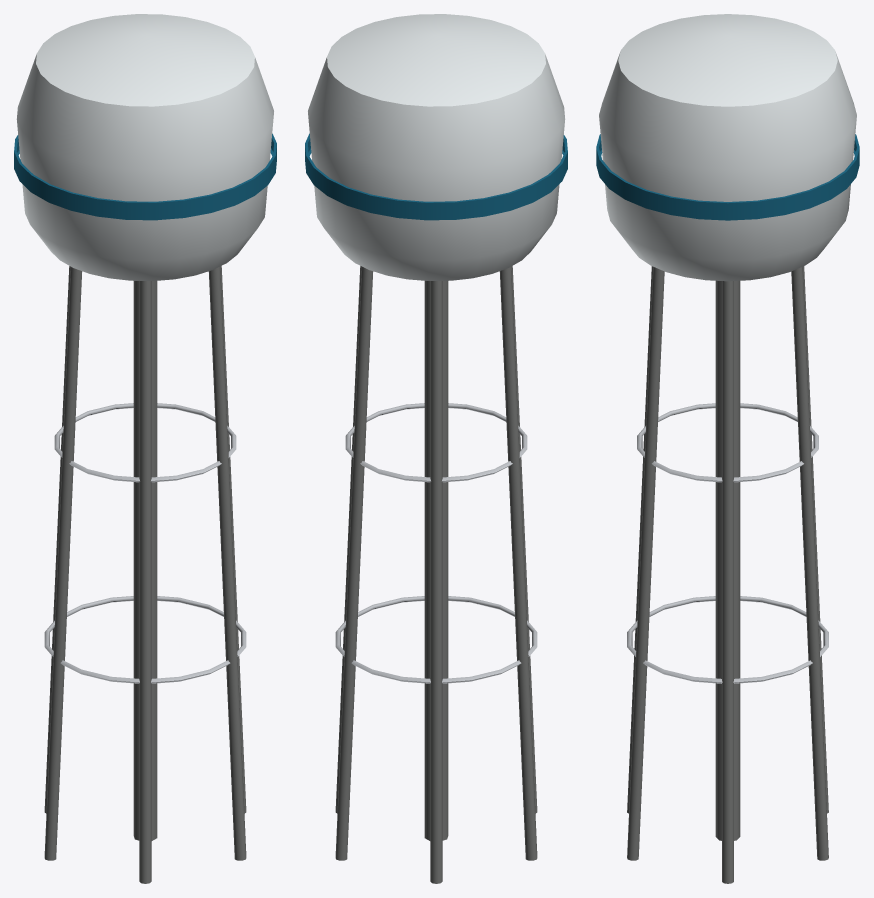
Rendered from world_site_subtropical_water_tower.glb.
The picture shows the model from 3 angles, left to right: view 1: azimuth 30°, elevation 25°; view 2: azimuth 150°, elevation 25°; view 3: azimuth 270°, elevation 25°; orthographic projection.
Parts seen in each view (by area): view 1: world_site_subtropical_water_tower_mesh; view 2: world_site_subtropical_water_tower_mesh; view 3: world_site_subtropical_water_tower_mesh.
Part boxes in pixels (bbox=[...]): world_site_subtropical_water_tower_mesh: bbox=[14, 14, 276, 883]; world_site_subtropical_water_tower_mesh: bbox=[305, 14, 567, 883]; world_site_subtropical_water_tower_mesh: bbox=[596, 14, 859, 883].
Bounding box in the file's own units: 9.6 × 32.2 × 9.6.
